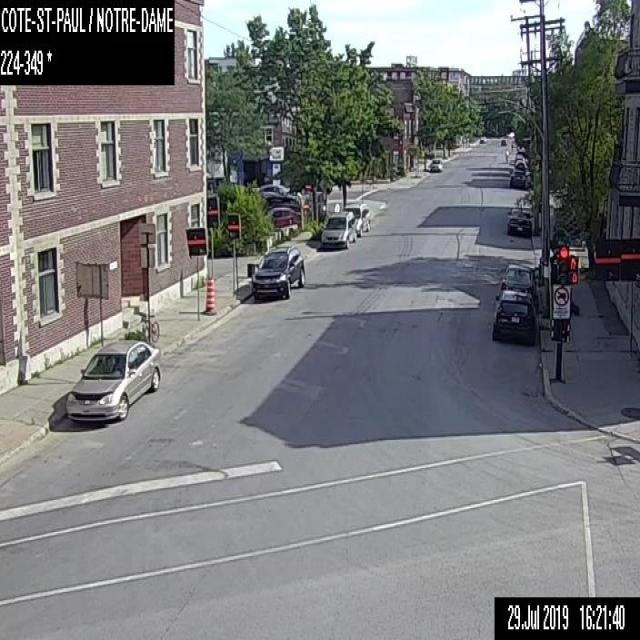construction: (203, 276, 216, 315)
vehicle: (64, 337, 161, 420), (253, 243, 305, 300), (491, 288, 537, 345), (320, 210, 356, 249), (499, 263, 534, 292), (258, 184, 300, 207), (342, 202, 371, 235), (506, 207, 532, 235), (266, 207, 300, 225), (508, 169, 526, 188), (429, 157, 442, 171), (513, 160, 525, 170), (514, 153, 524, 160), (499, 138, 506, 145), (479, 136, 486, 142)
